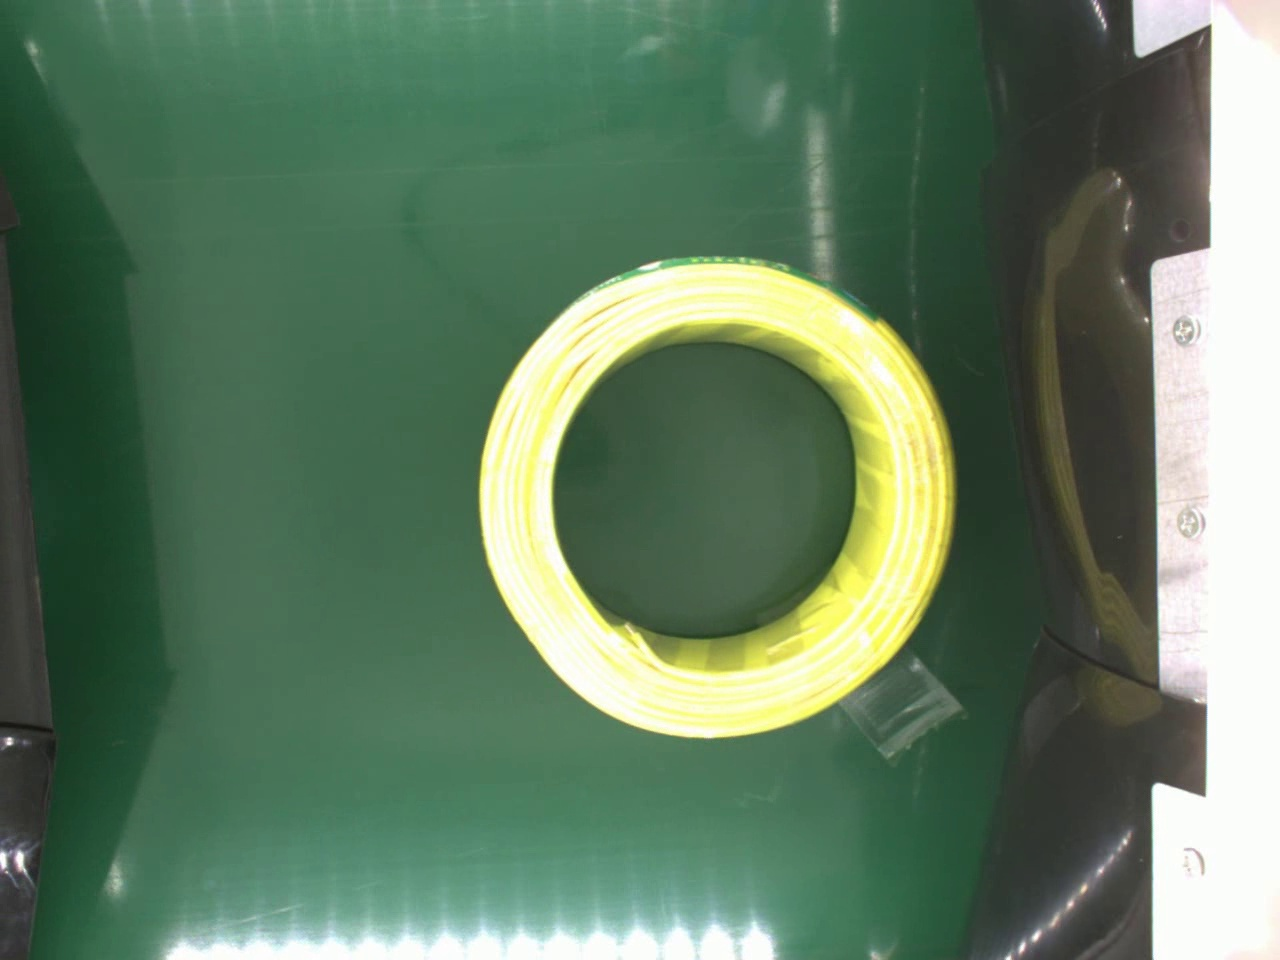yellow: (469, 248, 968, 740)
